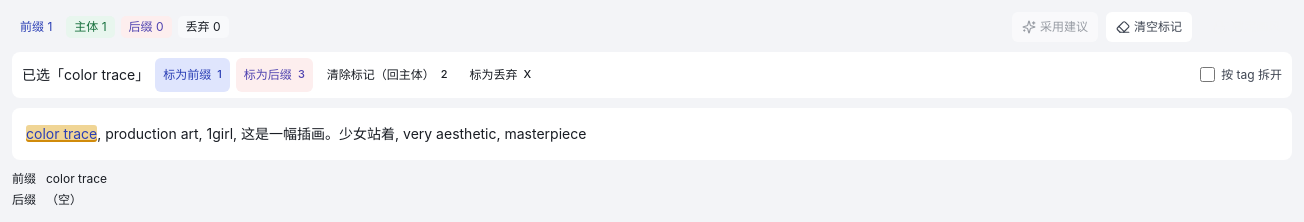
Test case: split view › selects a whole mark on click so it can be changed
The width and height of the screenshot is (1304, 222).
Expected: the text "前缀 1" is shown, x1=20 y1=19 x2=52 y2=34
Expected: the text "已选「color trace」" is shown, x1=22 y1=65 x2=149 y2=85
Step 1. Click the button "标为后缀 3" → (274, 75), box x1=236 y1=58 x2=313 y2=92
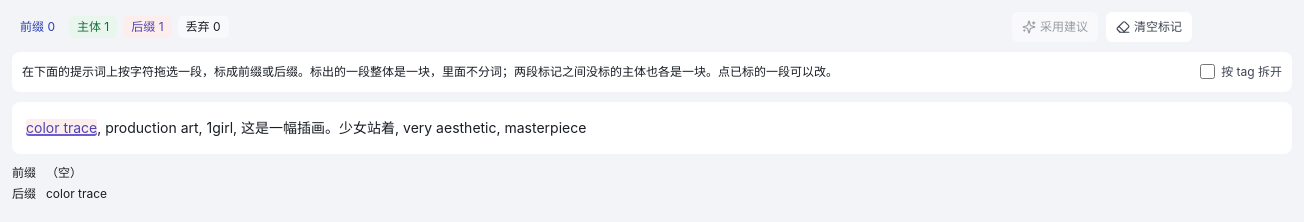
Now the text "前缀 0" is shown, box x1=20 y1=19 x2=55 y2=34
Now the text "后缀 1" is shown, box x1=123 y1=16 x2=172 y2=38
